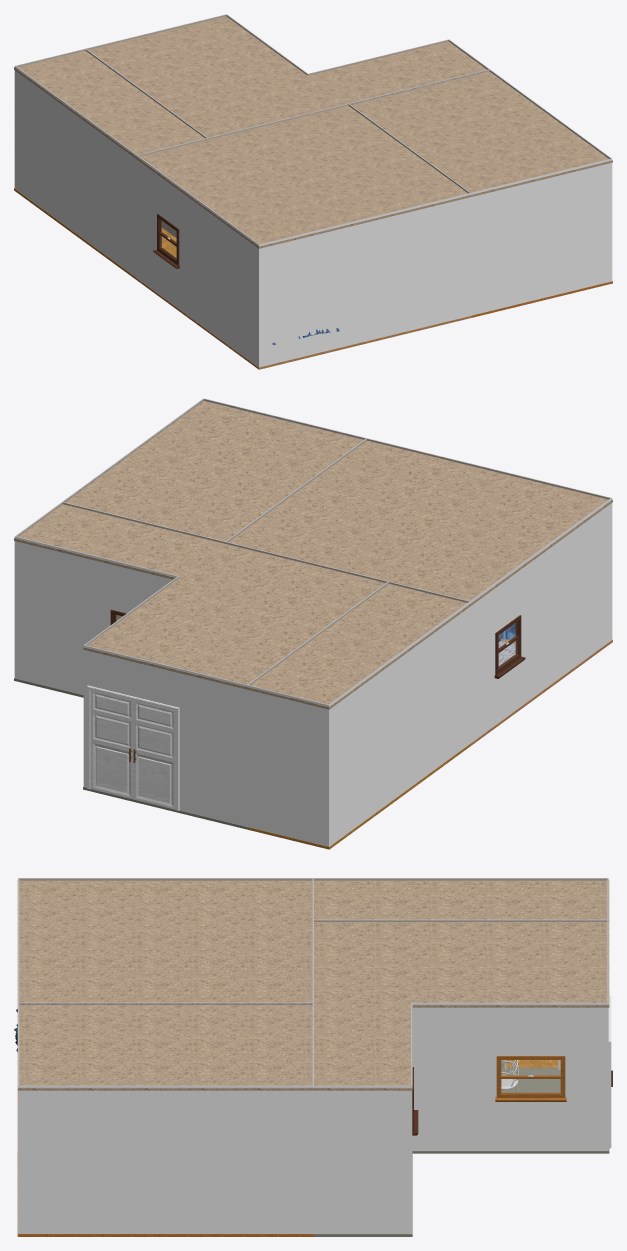
Rendered from ProcTHOR-Train-84.glb.
The picture shows the model from 3 angles, top to bottom: view 1: azimuth 30°, elevation 25°; view 2: azimuth 150°, elevation 25°; view 3: azimuth 270°, elevation 25°; orthographic projection. The views are drawn at different scales.
Parts seen in each view (by area): view 1: WallInside#wall|exterior|3.49|10.47|8.72|10.47, Ceiling#room|4|c, Ceiling#room|6|c, WallInside#wall|exterior|0.00|10.47|3.49|10.47, Ceiling#room|5|c, WallInside#wall|exterior|8.72|0.00|8.72|5.23, WallInside#wall|exterior|8.72|5.23|8.72|10.47, Ceiling#room|7|c, Floor#room|4|f, Window_Hung_36x32, Floor#room|7|f; view 2: Ceiling#room|4|c, Ceiling#room|6|c, Ceiling#room|5|c, WallInside#wall|exterior|8.72|0.00|8.72|5.23, WallInside#wall|exterior|8.72|5.23|8.72|10.47, WallInside#wall|exterior|0.00|3.49|3.49|3.49, WallInside#wall|exterior|3.49|0.00|6.98|0.00, WallInside#wall|exterior|6.98|0.00|8.72|0.00, Ceiling#room|7|c, Doorway_Door_8b, Doorway_Door_8a, Doorway_Double_8 (+4 smaller); view 3: WallInside#wall|exterior|0.00|5.23|0.00|10.47, Ceiling#room|4|c, Ceiling#room|6|c, WallInside#wall|exterior|3.49|0.00|3.49|3.49, Ceiling#room|5|c, WallInside#wall|exterior|0.00|3.49|0.00|5.23, Ceiling#room|7|c, Floor#room|6|f, Window_Hung_48x32, Floor#room|5|f, WallInside#wall|4|8.72|5.23|8.72|10.47, WallInside#wall|7|8.72|0.00|8.72|5.23 (+3 smaller).
Part boxes in pixels (box(x1,y1,x2,y2)): WallInside#wall|exterior|3.49|10.47|8.72|10.47: box(259, 193, 471, 367); Ceiling#room|4|c: box(136, 106, 471, 248); Ceiling#room|6|c: box(86, 16, 486, 139); WallInside#wall|exterior|0.00|10.47|3.49|10.47: box(470, 159, 612, 315); Ceiling#room|5|c: box(349, 71, 612, 196); WallInside#wall|exterior|8.72|0.00|8.72|5.23: box(14, 66, 136, 277); WallInside#wall|exterior|8.72|5.23|8.72|10.47: box(136, 155, 259, 366); Ceiling#room|7|c: box(14, 51, 207, 158); Floor#room|4|f: box(136, 277, 471, 369); Window_Hung_36x32: box(153, 214, 179, 268); Floor#room|7|f: box(14, 188, 176, 279); Ceiling#room|4|c: box(228, 440, 612, 605); Ceiling#room|6|c: box(14, 504, 388, 689); Ceiling#room|5|c: box(63, 401, 363, 541); WallInside#wall|exterior|8.72|0.00|8.72|5.23: box(329, 602, 470, 846); WallInside#wall|exterior|8.72|5.23|8.72|10.47: box(470, 498, 612, 742); WallInside#wall|exterior|0.00|3.49|3.49|3.49: box(14, 536, 177, 694); WallInside#wall|exterior|3.49|0.00|6.98|0.00: box(83, 645, 247, 826); WallInside#wall|exterior|6.98|0.00|8.72|0.00: box(246, 685, 329, 846); Ceiling#room|7|c: box(246, 584, 470, 709); Doorway_Door_8b: box(90, 690, 133, 799); Doorway_Door_8a: box(133, 700, 175, 809); Doorway_Double_8: box(87, 685, 179, 810); WallInside#wall|exterior|0.00|5.23|0.00|10.47: box(18, 1086, 313, 1233); Ceiling#room|4|c: box(17, 880, 314, 1005); Ceiling#room|6|c: box(312, 921, 609, 1090); WallInside#wall|exterior|3.49|0.00|3.49|3.49: box(411, 1003, 608, 1150); Ceiling#room|5|c: box(17, 1004, 314, 1090); WallInside#wall|exterior|0.00|3.49|0.00|5.23: box(313, 1086, 412, 1233); Ceiling#room|7|c: box(312, 880, 609, 922); Floor#room|6|f: box(313, 1067, 609, 1236); Window_Hung_48x32: box(495, 1056, 566, 1101); Floor#room|5|f: box(17, 1150, 314, 1236); WallInside#wall|4|8.72|5.23|8.72|10.47: box(19, 878, 313, 880); WallInside#wall|7|8.72|0.00|8.72|5.23: box(314, 878, 607, 880).
Size of what is drawn, in the model's own units: 8.86 by 2.96 by 10.64.
261 materials, 100 textured.
